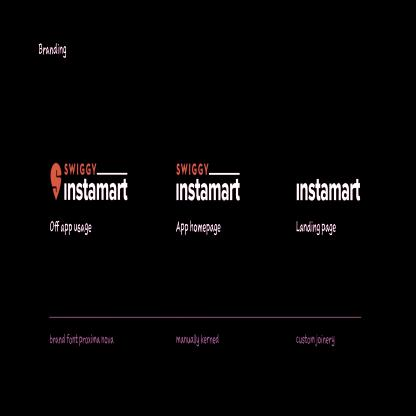Swiggy: (175, 159, 209, 176), (50, 161, 61, 206), (65, 162, 98, 177)
